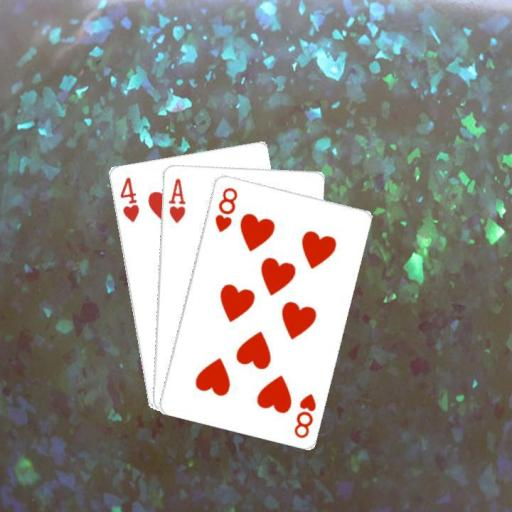4H: (116, 174, 141, 224)
8H: (211, 184, 239, 234), (291, 390, 318, 440)
AH: (165, 175, 187, 224)
